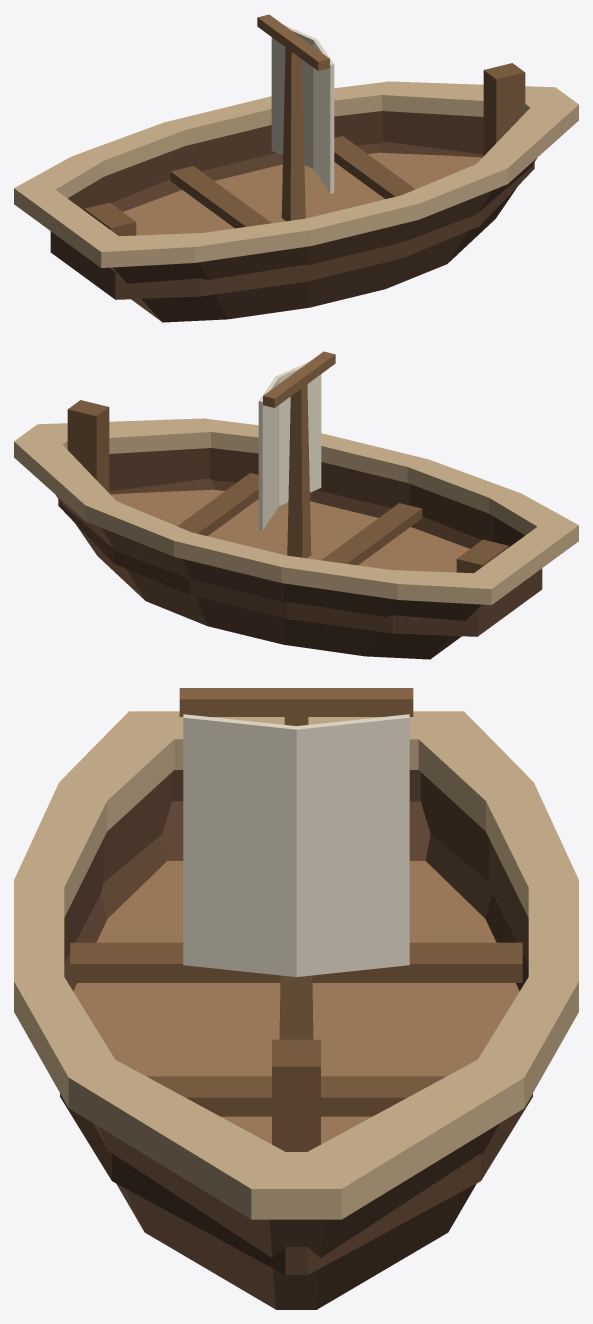
The model's file is boat_small.glb.
3 renders of one model, top to bottom at view 1: azimuth 30°, elevation 25°; view 2: azimuth 150°, elevation 25°; view 3: azimuth 270°, elevation 25°, orthographic. The views are drawn at different scales.
Parts seen in each view (by area): view 1: boat_small; view 2: boat_small; view 3: boat_small.
Part boxes in pixels (<box>): boat_small: <box>14,14,578,322</box>; boat_small: <box>14,351,578,659</box>; boat_small: <box>14,688,578,1309</box>.
Size of the model in its own units: 3 by 1.26 by 1.5.
